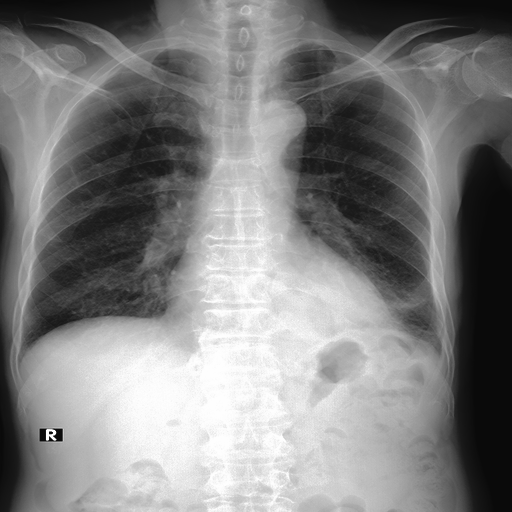Consolidation: (258, 98, 306, 146)
Nodule/Mass: (158, 268, 397, 336)
Pleural thickening: (394, 298, 423, 311)
Pneumothorax: (389, 290, 430, 311), (417, 324, 441, 338)
